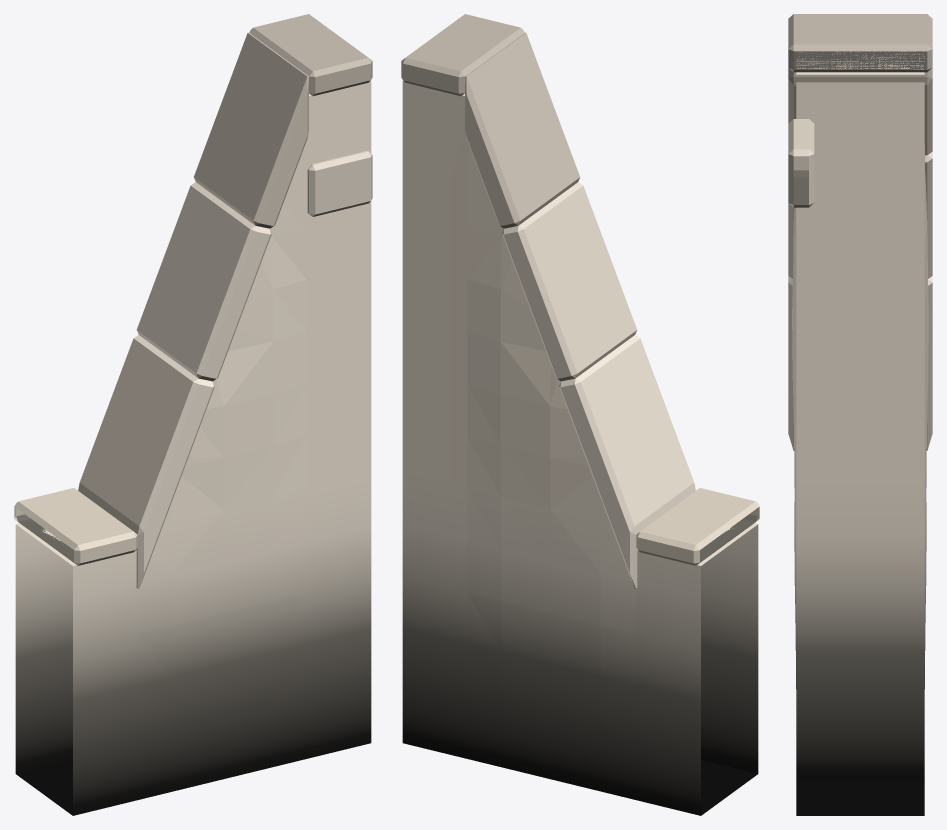
The model's file is SM_VKI_Wall_Ancient_Rake_150_L.fbx.
3 views of the same model, side by side, from view 1: azimuth 30°, elevation 25°; view 2: azimuth 150°, elevation 25°; view 3: azimuth 270°, elevation 25° (orthographic). The views are drawn at different scales.
Parts seen in each view (by area): view 1: SM_VKI_Wall_Ancient_Rake_150_L.001; view 2: SM_VKI_Wall_Ancient_Rake_150_L.001; view 3: SM_VKI_Wall_Ancient_Rake_150_L.001.
Part boxes in pixels (x1,y1,x2,y2): SM_VKI_Wall_Ancient_Rake_150_L.001: (14, 14, 372, 815); SM_VKI_Wall_Ancient_Rake_150_L.001: (401, 14, 759, 815); SM_VKI_Wall_Ancient_Rake_150_L.001: (788, 14, 932, 815).
Bounding box in the file's own units: 1.5 × 3.3 × 0.56.
